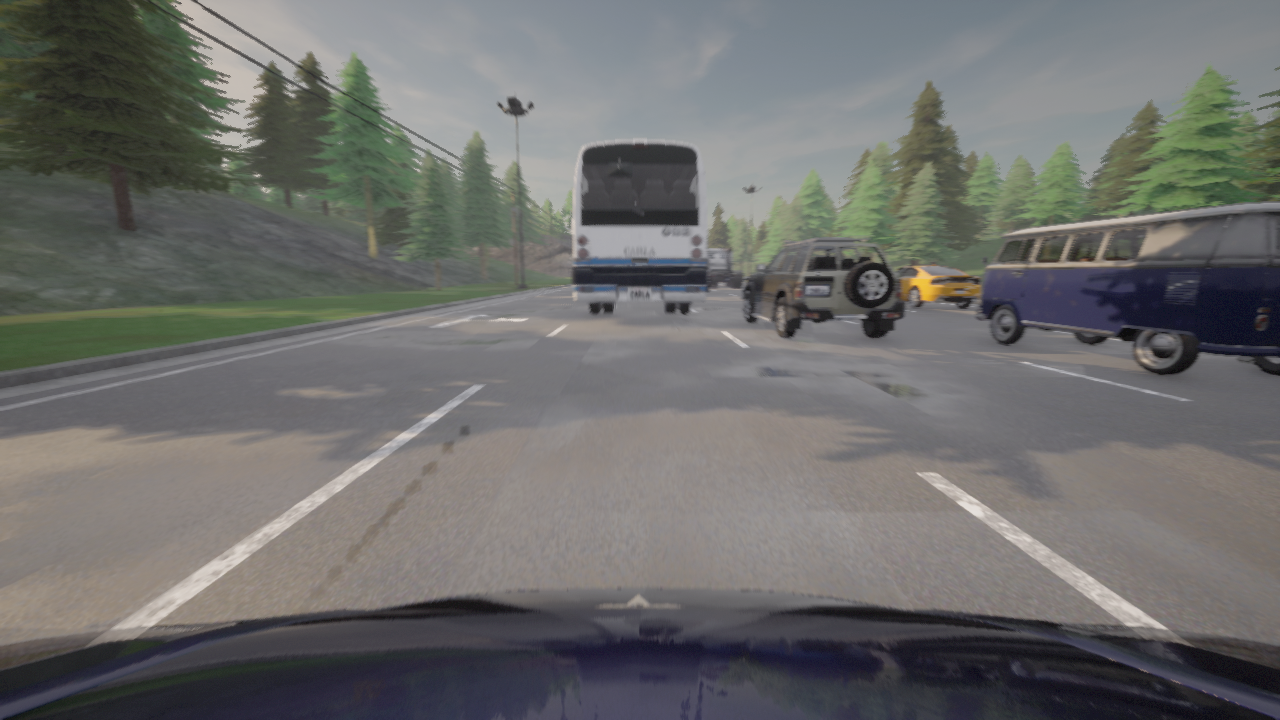cyclist: (0, 588, 1279, 719), (976, 202, 1279, 374), (572, 139, 707, 314), (741, 238, 905, 338), (895, 264, 980, 307), (707, 248, 742, 287), (707, 252, 710, 291)
